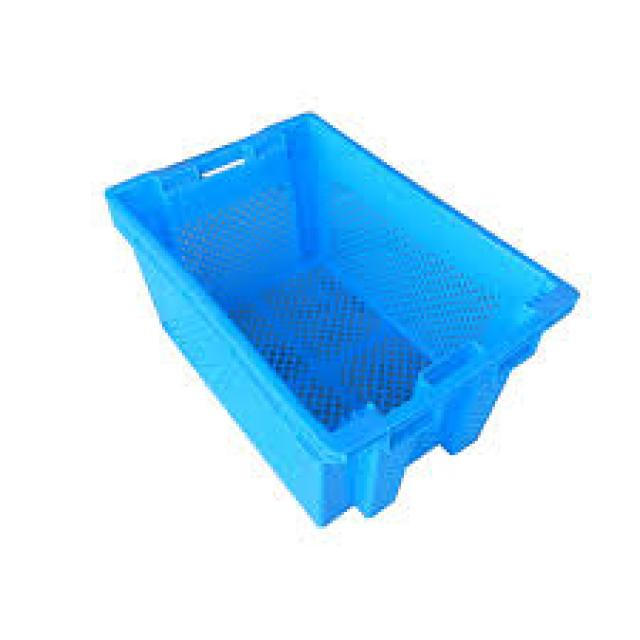basket: (26, 38, 580, 569)
